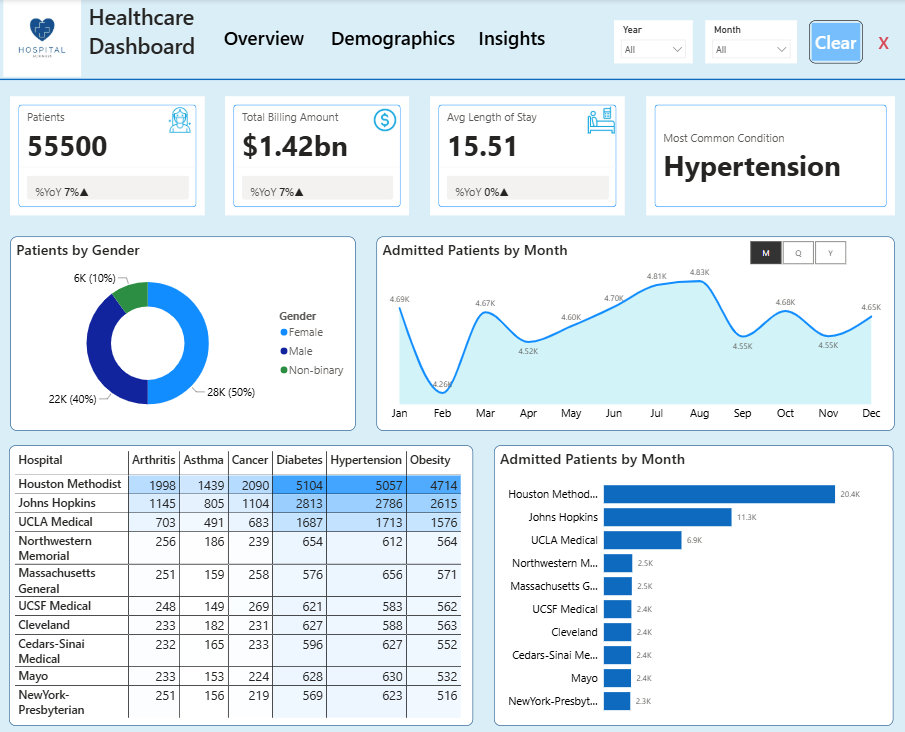

Layout of this report page (visuals, bound fields, positions):
{"tool":"powerbi","page":{"name":"Overview","canvas":[1350,1091],"ordinal":0},"visuals":[{"type":"slicer","fields":{"Values":["DateTable.Year"]},"box":[912,32,116.6,64],"z":0,"group":"g1"},{"type":"cardVisual","fields":{"Data":["DAX Measures.Patients"]},"box":[16,144,288,176],"z":0},{"type":"slicer","fields":{"Values":["DateTable.Month"]},"box":[1048,32,136,64],"z":1000,"group":"g1"},{"type":"cardVisual","fields":{"Data":["DAX Measures.Total Billing Amount"]},"box":[336,144,272,176],"z":1000},{"type":"cardVisual","fields":{"Data":["DAX Measures.Avg Length of Stay"]},"box":[640,144,288,176],"z":2000},{"type":"cardVisual","fields":{"Data":["DAX Measures.Most Common Condition"]},"box":[960,144,368,176],"z":3000},{"type":"donutChart","fields":{"Y":["DAX Measures.Patients"],"Category":["Dim_Patient.Gender"]},"box":[16,352,512,288],"z":4000},{"type":"lineChart","fields":{"Category":["DateTable.Month sh"],"Y":["DAX Measures.Patients"]},"box":[559.7,352.7,768,288],"z":5000},{"type":"slicer","fields":{"Values":["Parameter.Parameter"]},"box":[1087.7,352.7,192,48],"z":6000},{"type":"clusteredBarChart","fields":{"Y":["DAX Measures.Patients"],"Category":["Dim_Hospital.Hospital.1"]},"box":[734.6,662.3,592,416],"z":7000},{"type":"pivotTable","fields":{"Rows":["Dim_Hospital.Hospital.1"],"Values":["DAX Measures.Patients"],"Columns":["Dim_Patient.Medical Condition"]},"box":[14.6,662.3,688,416],"z":8000},{"type":"actionButton","title":"Btn - Clear","box":[1200,32,80,64],"z":10000},{"type":"actionButton","title":"Btn - Hide","box":[1296,32,32,64],"z":11000},{"type":"group","id":"g1","title":"Group 1","box":[912,32,272,64],"z":12000},{"type":"shape","box":[0,112,1344,16],"z":13000},{"type":"image","box":[0,0,128,115],"z":15000},{"type":"textbox","box":[128,0,176,112],"z":16000},{"type":"actionButton","box":[320,32,144,48],"z":17000},{"type":"actionButton","box":[480,32,208,48],"z":18000},{"type":"actionButton","box":[704,32,112,48],"z":19000},{"type":"image","box":[248,160,40,40],"z":20000},{"type":"image","box":[552,160,40,40],"z":21000},{"type":"image","box":[872,160,40,40],"z":22000}]}

Visuals, with their boxes in screenshot pixels (x1, y1, x2, y2), scaled from the page's 1350x1091 canvas onto the 905x732 screenshot:
slicer - DateTable.Year: Rect(611, 21, 690, 64)
cardVisual - DAX Measures.Patients: Rect(11, 97, 204, 215)
slicer - DateTable.Month: Rect(703, 21, 794, 64)
cardVisual - DAX Measures.Total Billing Amount: Rect(225, 97, 408, 215)
cardVisual - DAX Measures.Avg Length of Stay: Rect(429, 97, 622, 215)
cardVisual - DAX Measures.Most Common Condition: Rect(644, 97, 890, 215)
donutChart - DAX Measures.Patients x Dim_Patient.Gender: Rect(11, 236, 354, 429)
lineChart - DateTable.Month sh x DAX Measures.Patients: Rect(375, 237, 890, 430)
slicer - Parameter.Parameter: Rect(729, 237, 858, 269)
clusteredBarChart - DAX Measures.Patients x Dim_Hospital.Hospital.1: Rect(492, 444, 889, 723)
pivotTable - Dim_Hospital.Hospital.1 x DAX Measures.Patients: Rect(10, 444, 471, 723)
"Btn - Clear" actionButton: Rect(804, 21, 858, 64)
"Btn - Hide" actionButton: Rect(869, 21, 890, 64)
"Group 1" group: Rect(611, 21, 794, 64)
shape: Rect(0, 75, 901, 86)
image: Rect(0, 0, 86, 77)
textbox: Rect(86, 0, 204, 75)
actionButton: Rect(215, 21, 311, 54)
actionButton: Rect(322, 21, 461, 54)
actionButton: Rect(472, 21, 547, 54)
image: Rect(166, 107, 193, 134)
image: Rect(370, 107, 397, 134)
image: Rect(585, 107, 611, 134)
